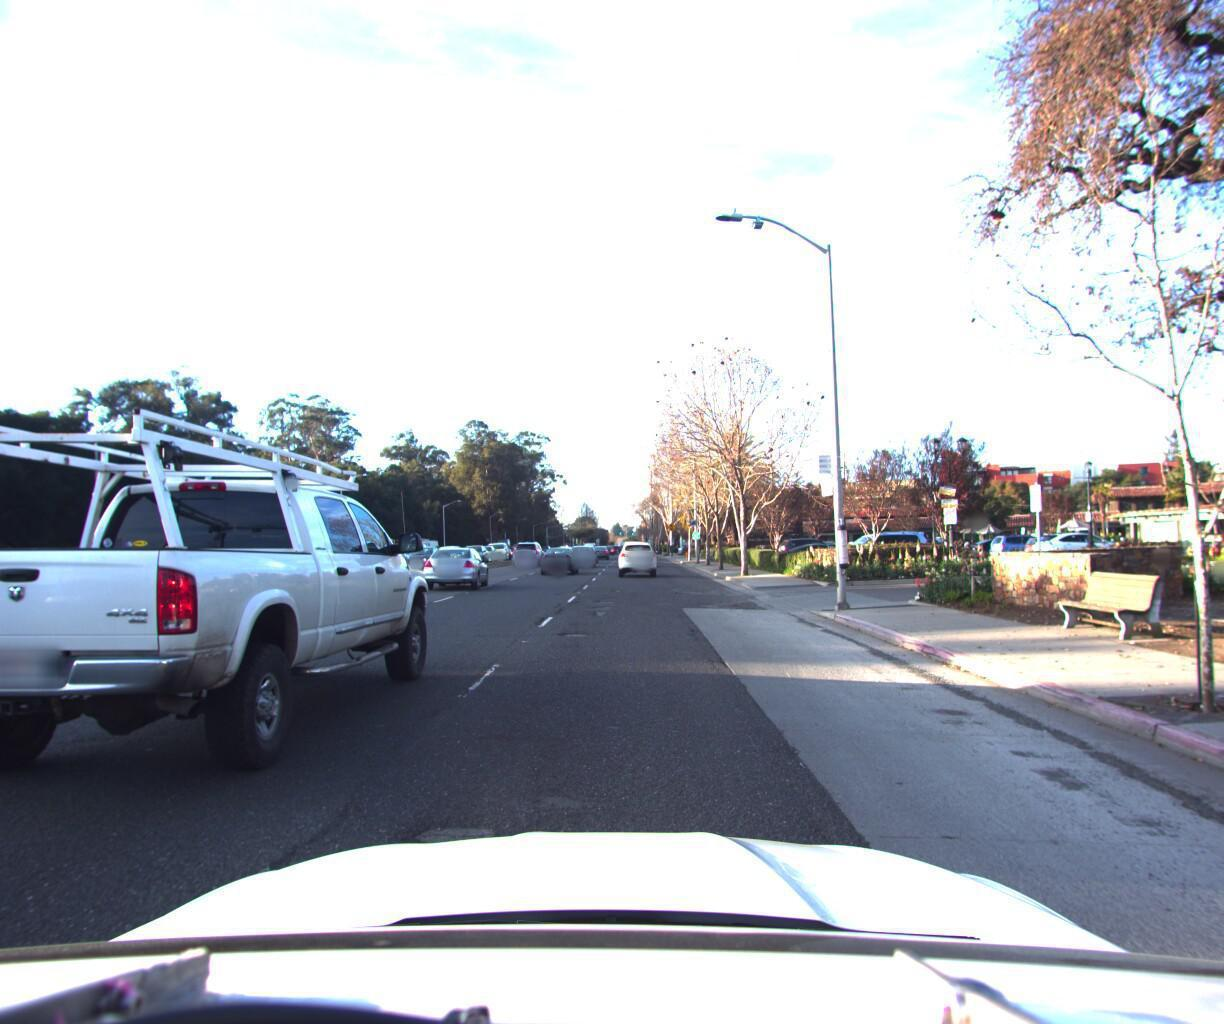car: (17, 543, 166, 608), (818, 522, 929, 562), (424, 540, 491, 588), (778, 534, 863, 565), (773, 530, 849, 558), (616, 533, 658, 573), (540, 538, 580, 570), (510, 534, 543, 562), (566, 537, 596, 564), (482, 535, 510, 557), (590, 538, 609, 555)
